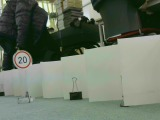speed_20: (10, 49, 34, 70)
